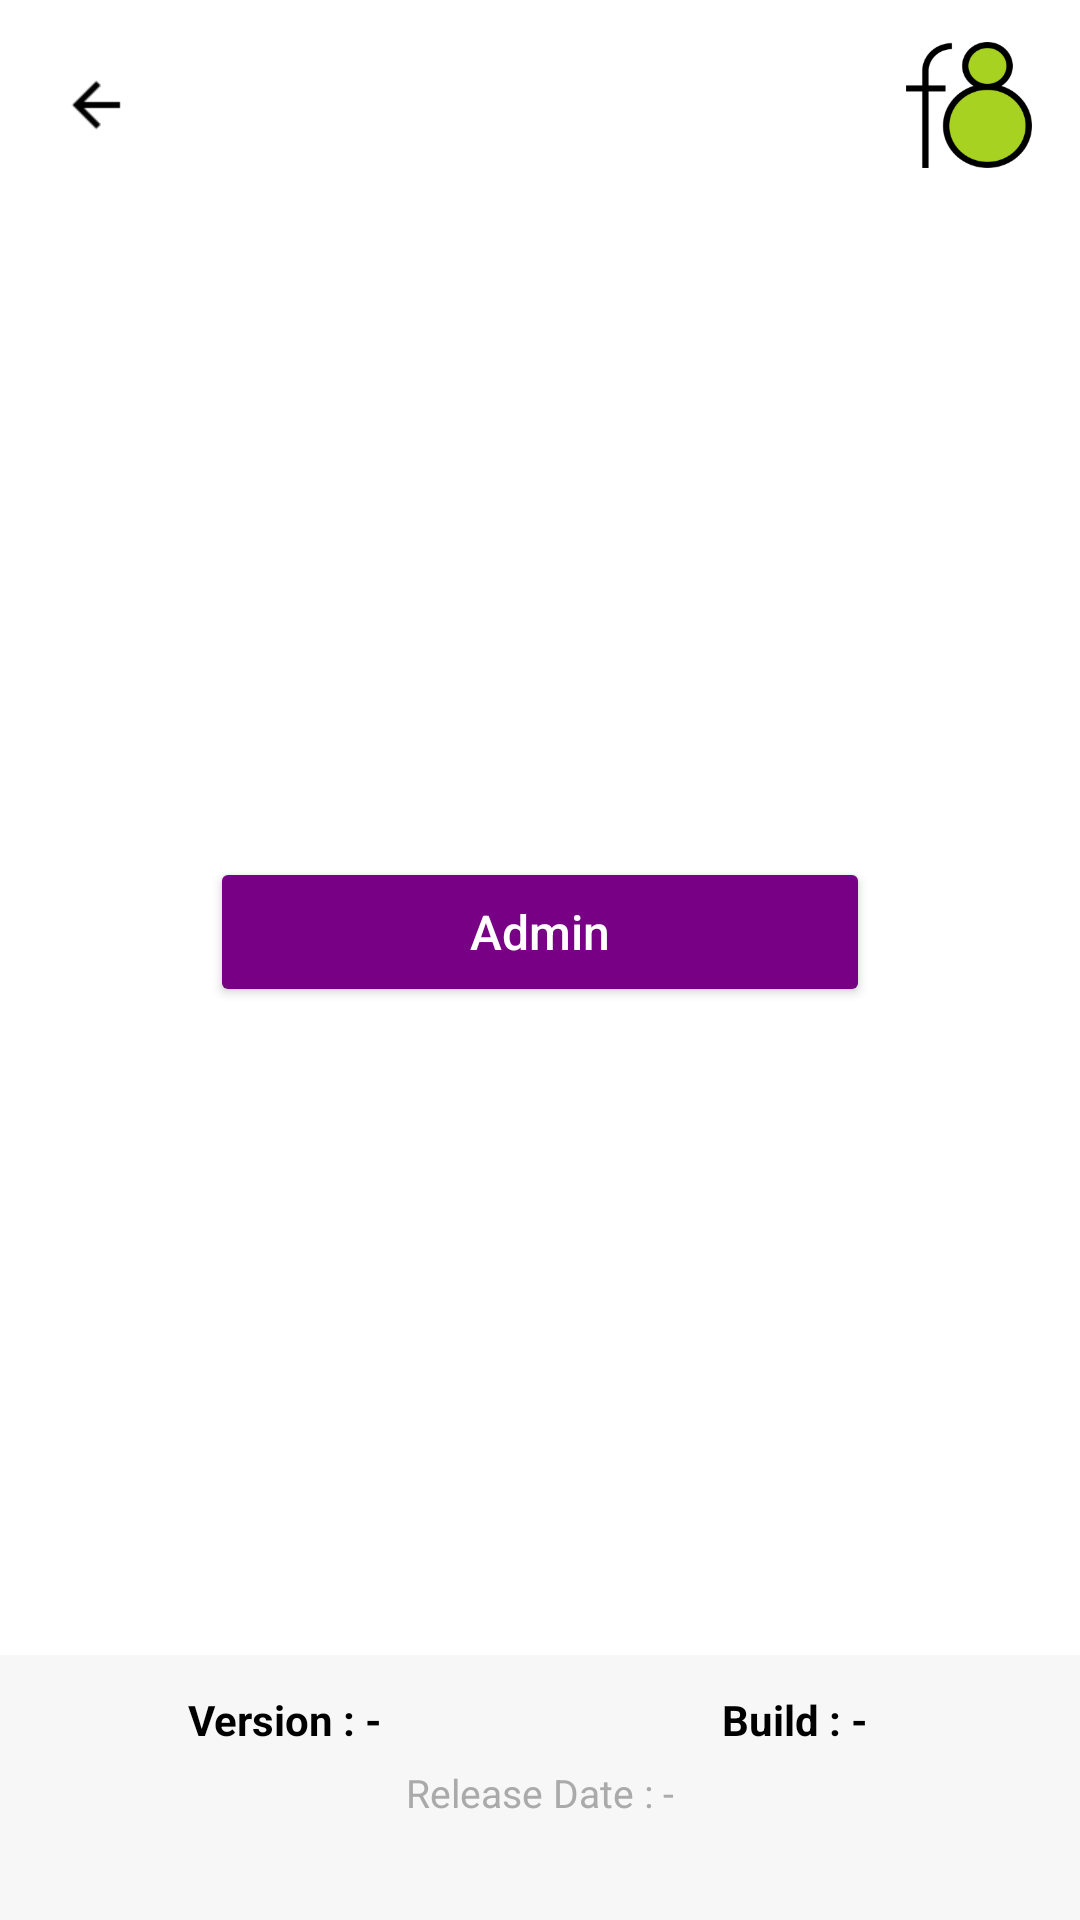

Screen size 1080*1920. Icon name, then its box in pixels as (x1=x1, y1=y1, x2=x2, y2=y2):
Back: (x1=72, y1=81, x2=121, y2=129)
